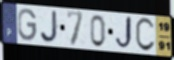0: (89, 14, 107, 49)
7: (66, 10, 85, 49)
C: (134, 17, 156, 54)
G: (17, 8, 38, 43)
J: (114, 15, 134, 52), (39, 10, 60, 44)
